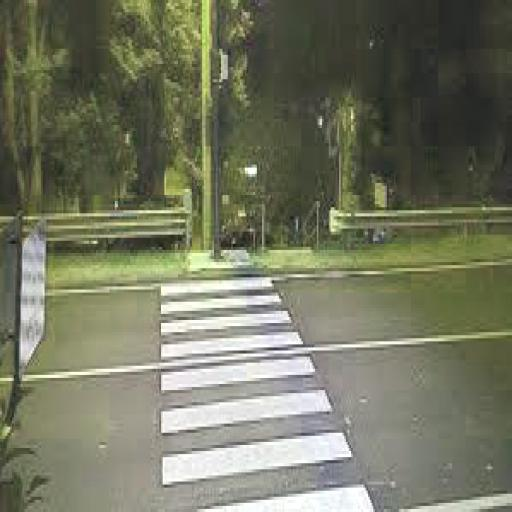crosswalk: (152, 384, 384, 494)
